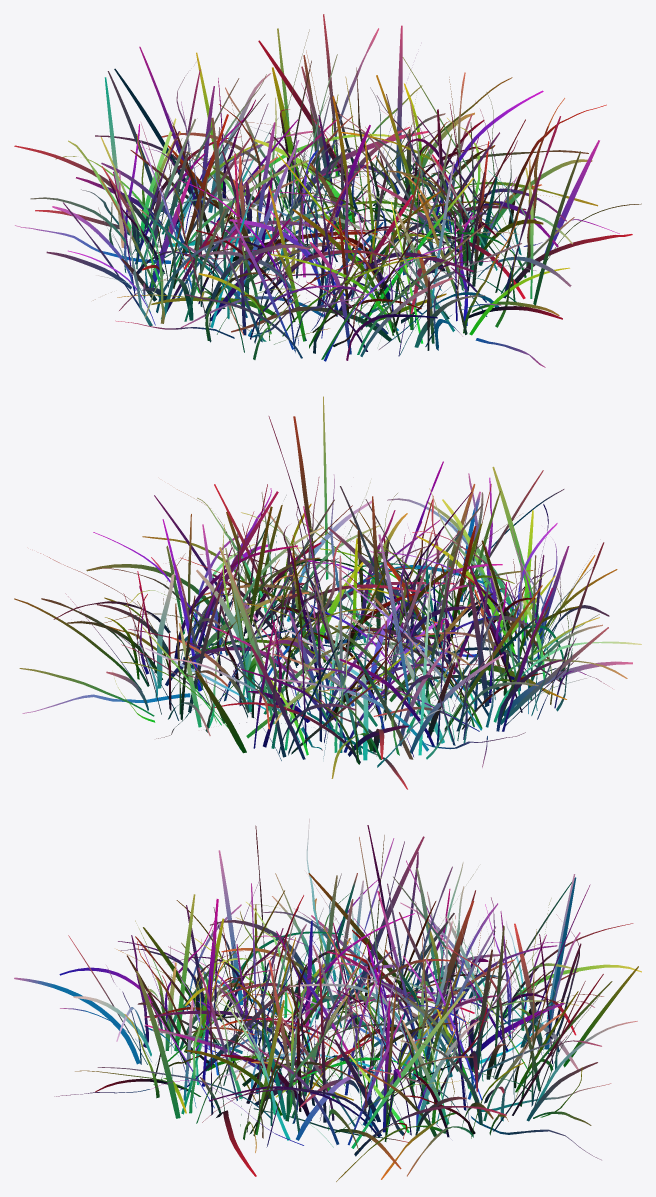
The model's file is Wild_Grass_vlkhcbxia_High_vlkhcbxia_VarB_LOD0.fbx.
3 renders of one model, top to bottom at view 1: azimuth 30°, elevation 25°; view 2: azimuth 150°, elevation 25°; view 3: azimuth 270°, elevation 25°, orthographic. The views are drawn at different scales.
Visible parts, largest first — view 1: _3y85_VarB_LOD0; view 2: _3y85_VarB_LOD0; view 3: _3y85_VarB_LOD0.
Part boxes in pixels (x1=…): _3y85_VarB_LOD0: x1=14, y1=14, x2=641, y2=367; _3y85_VarB_LOD0: x1=14, y1=396, x2=641, y2=789; _3y85_VarB_LOD0: x1=14, y1=818, x2=641, y2=1181.
Bounding box in the file's own units: 54.6 × 17.18 × 54.13.
